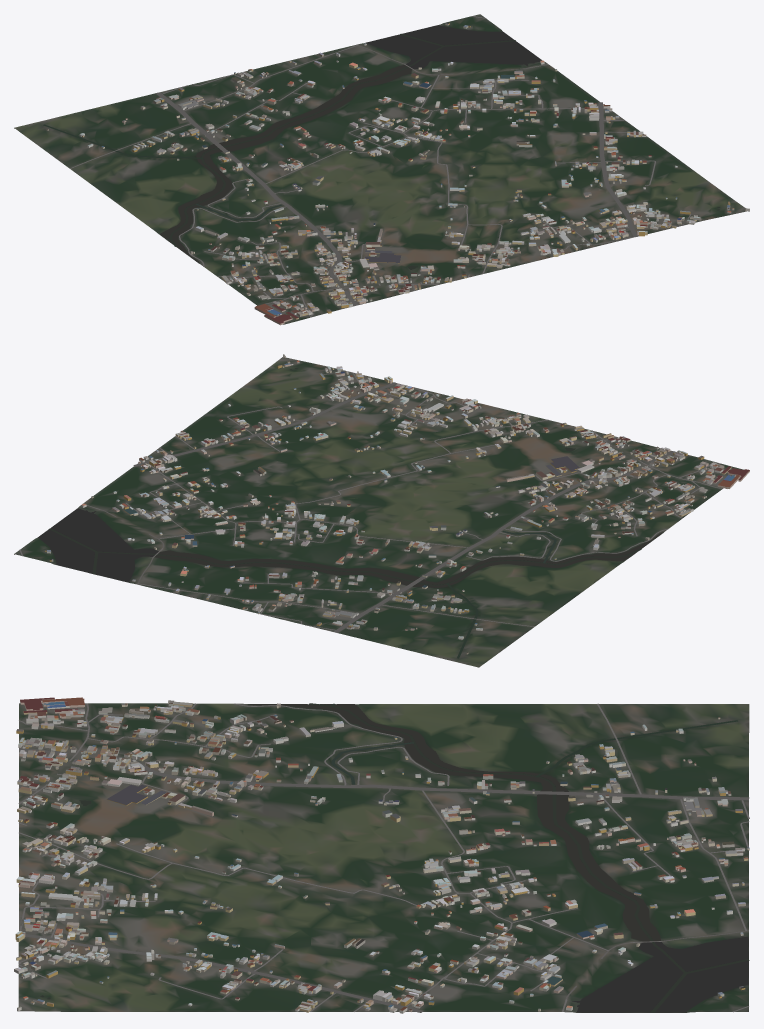
3 renders of one model, top to bottom at view 1: azimuth 30°, elevation 25°; view 2: azimuth 150°, elevation 25°; view 3: azimuth 270°, elevation 25°, orthographic. The views are drawn at different scales.
Parts seen in each view (by area): view 1: ground, buildings, water, roads; view 2: ground, buildings, water, roads; view 3: ground, buildings, water, roads.
Part boxes in pixels (x1,y1,x2,y2): ground: (14, 14, 746, 324); buildings: (46, 22, 749, 325); water: (43, 25, 720, 269); roads: (70, 16, 691, 317); ground: (14, 357, 743, 667); buildings: (45, 354, 749, 654); water: (38, 368, 662, 658); roads: (19, 371, 722, 632); ground: (18, 703, 749, 1012); buildings: (14, 697, 749, 1013); water: (40, 703, 749, 1012); roads: (18, 703, 749, 1012).
Size of the model in its own units: 1424 by 22.5 by 1412.
